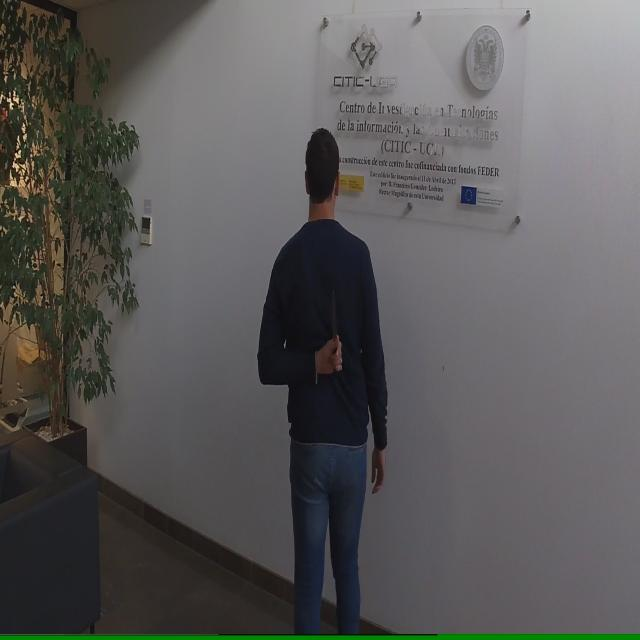knife: (326, 283, 345, 378)
